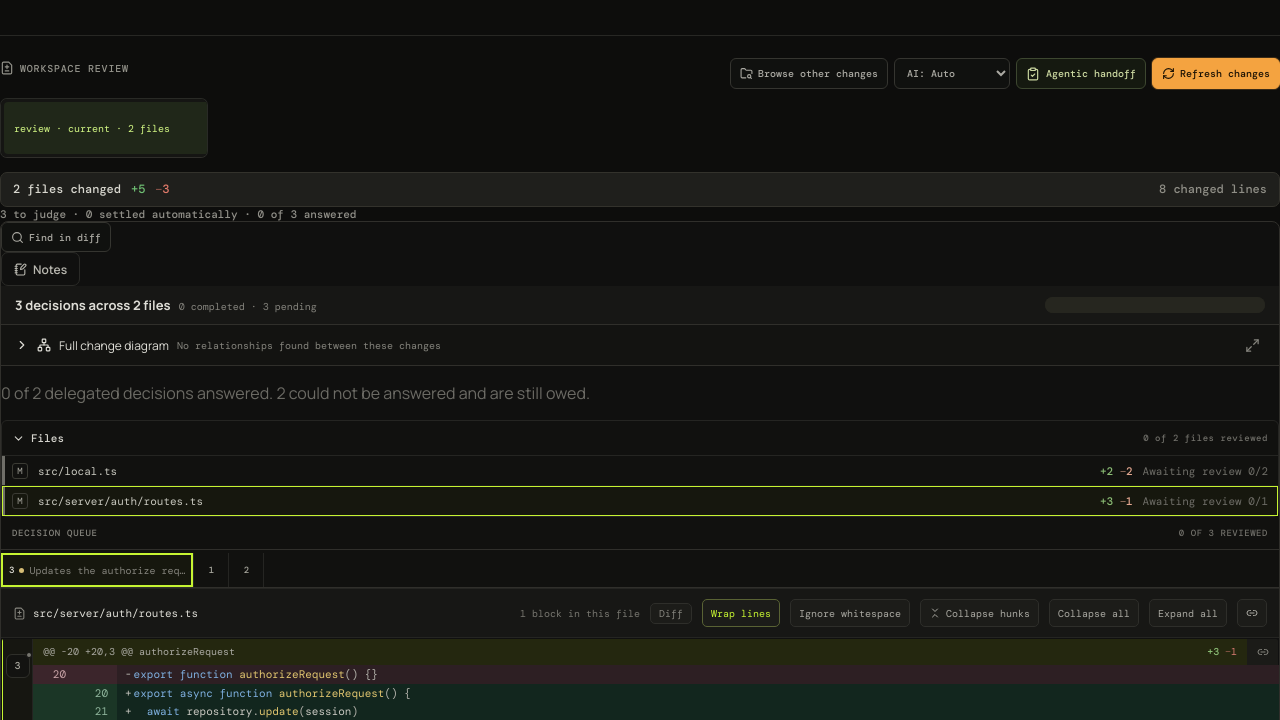
Test case: WorkspaceDiffView decision queue › puts critical production risk ahead of unrelated source order, with no ambient block scoring
This screenshot has width=1280, height=720.
Expected: the element named "3 decisions across 2 files, 0 completed" shows "3 decisions across 2 files", [15,296,171,314]
Expected: the text "src/server/auth/routes.ts" in the row of "block" is shown, [33,606,198,620]
Click the button named "Decision 1": x=211, y=570 [194,553,228,587]
(page scrolled)
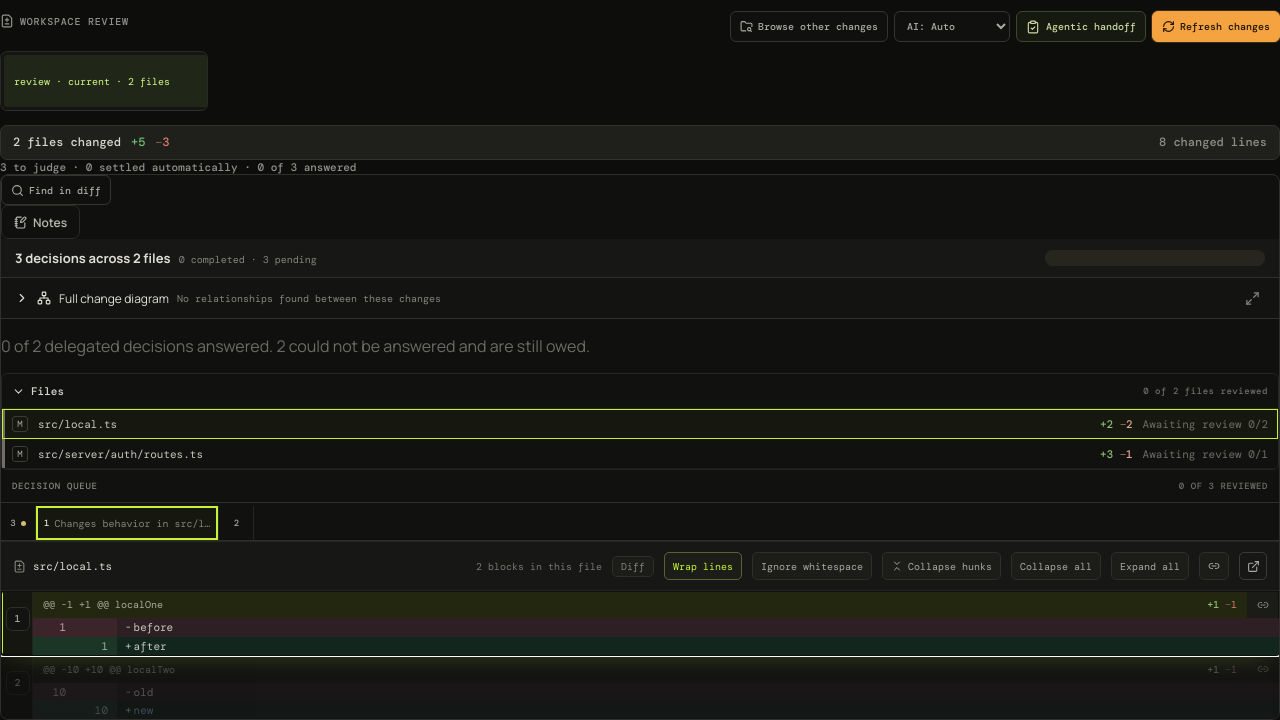
Expected: the element named "Full diff for src/local.ts" is shown, [1,542,1279,719]
